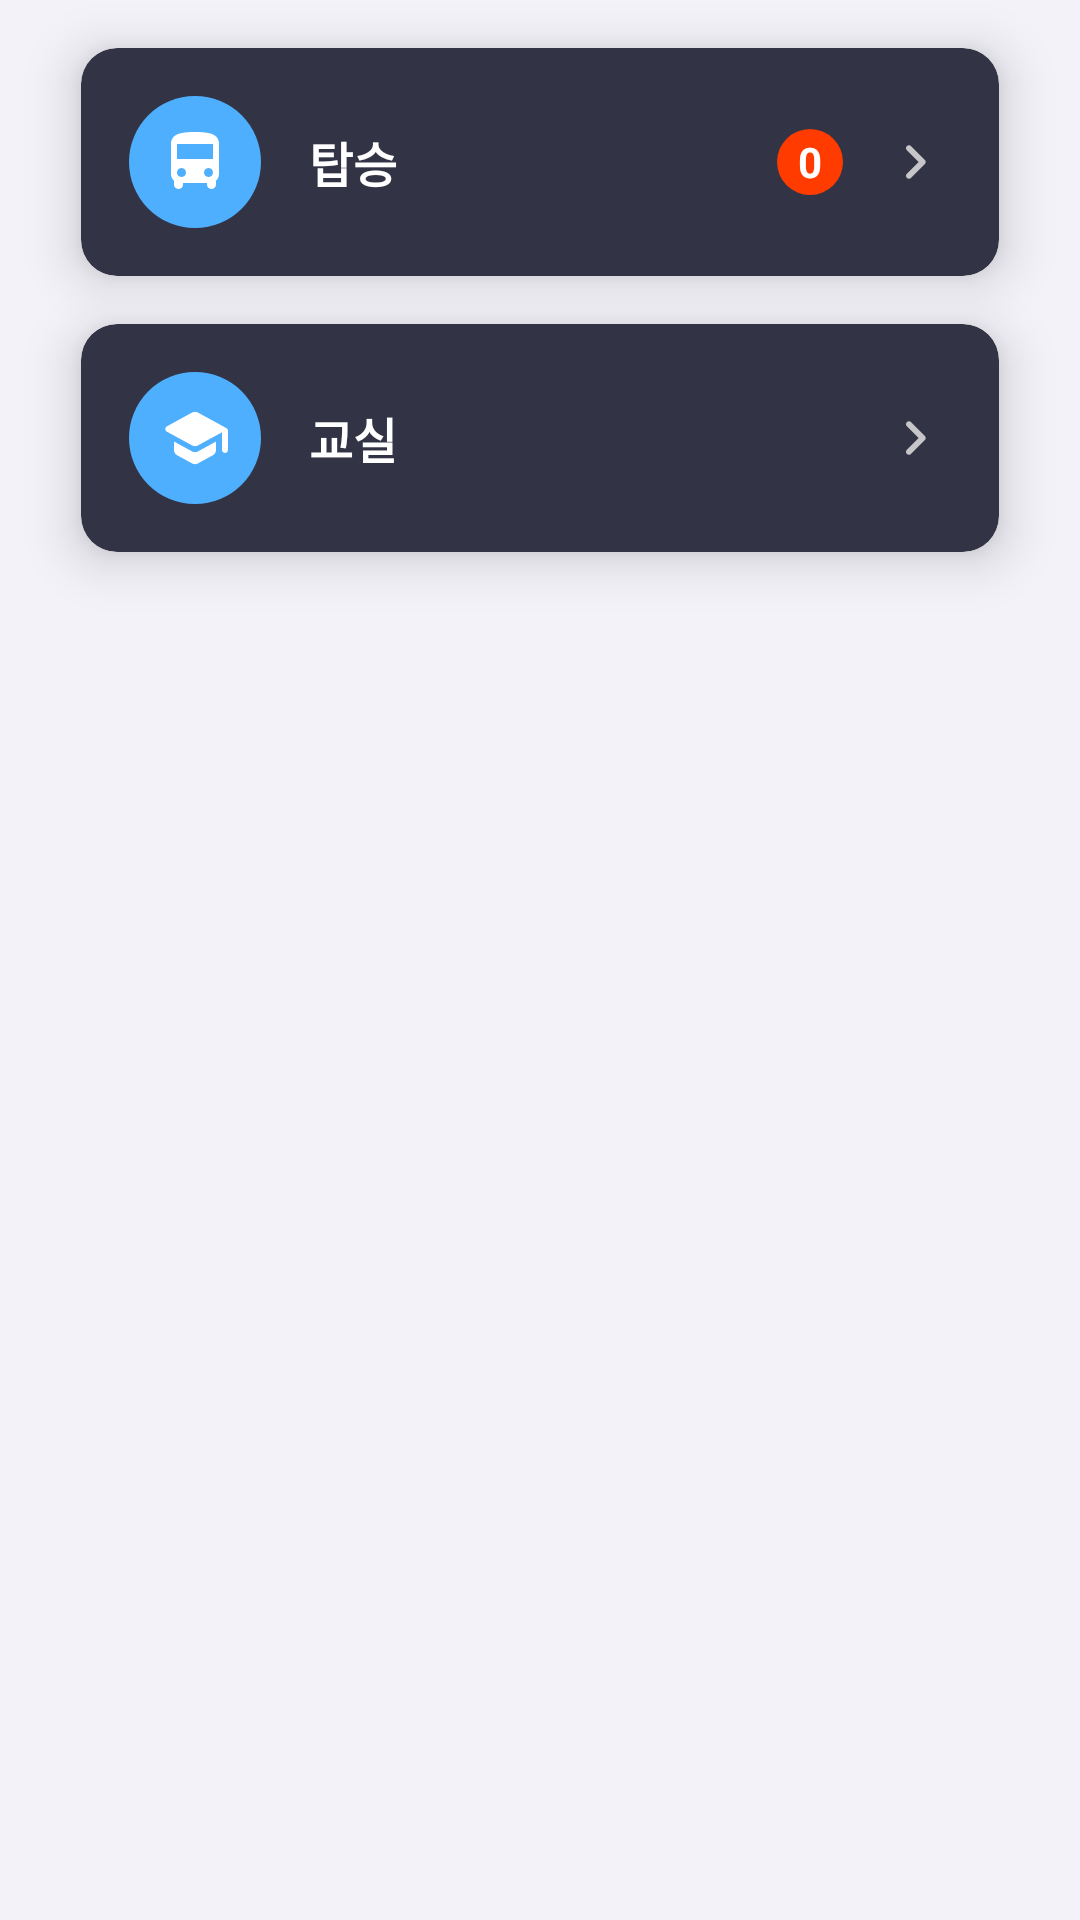

Icon bounding boxes for this 1080px×1920px phone screenshot, format (x1, y1, x2, y2):
bus: (171, 132, 219, 189)
enter: (906, 145, 926, 179), (906, 421, 926, 455)
school: (165, 412, 228, 464)
